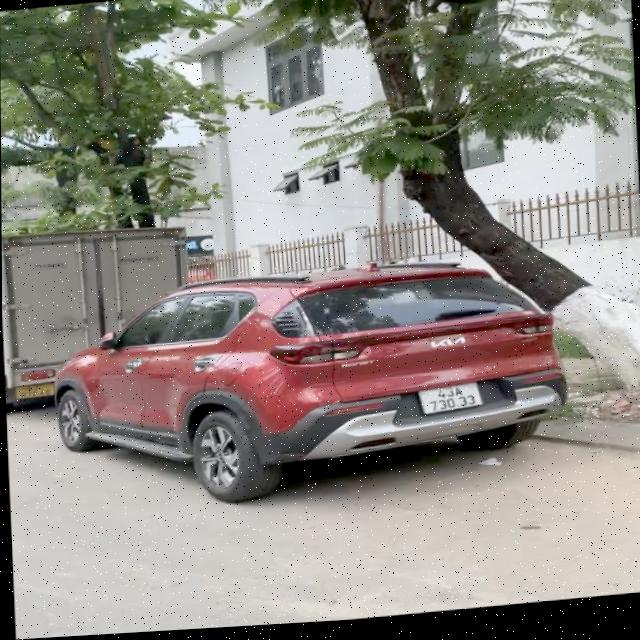car: (43, 239, 573, 524)
plate: (416, 374, 486, 420), (10, 379, 54, 406)
